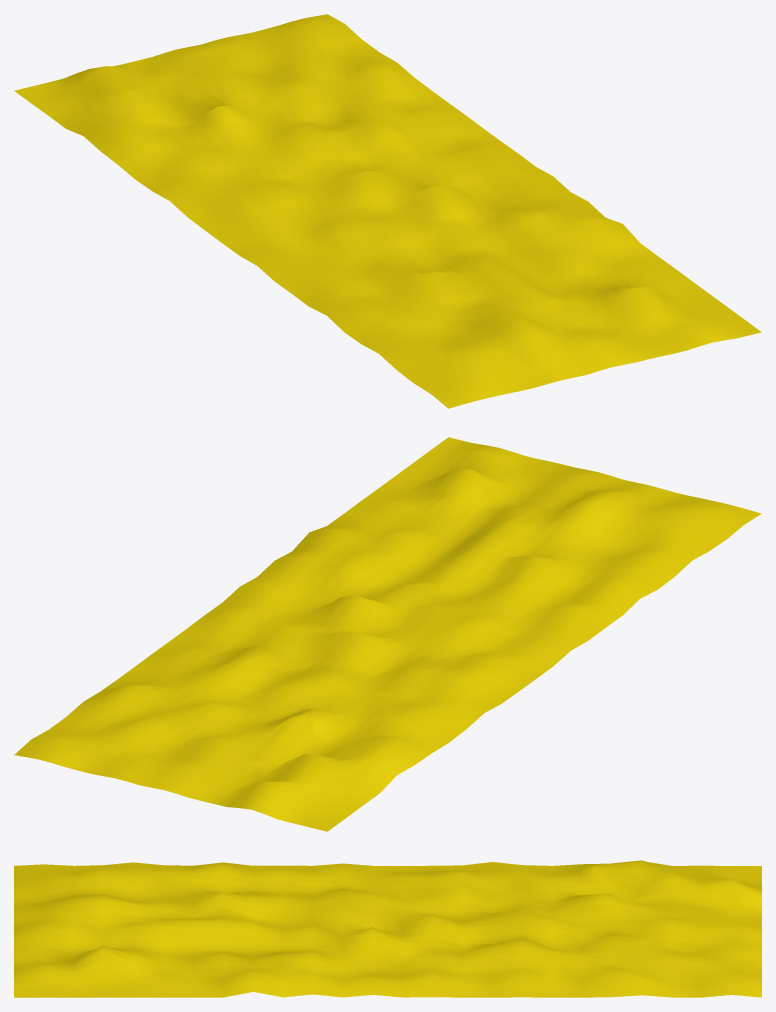
The model's file is Bot Sand.fbx.
3 renders of one model, top to bottom at view 1: azimuth 30°, elevation 25°; view 2: azimuth 150°, elevation 25°; view 3: azimuth 270°, elevation 25°, orthographic. The views are drawn at different scales.
Visible parts, largest first — view 1: pPlane1; view 2: pPlane1; view 3: pPlane1.
Part boxes in pixels (bbox=[...]): pPlane1: bbox=[14, 14, 761, 408]; pPlane1: bbox=[14, 437, 761, 831]; pPlane1: bbox=[14, 860, 761, 997].
Size of the model in its own units: 0.8564 by 0.0628 by 2.05.
